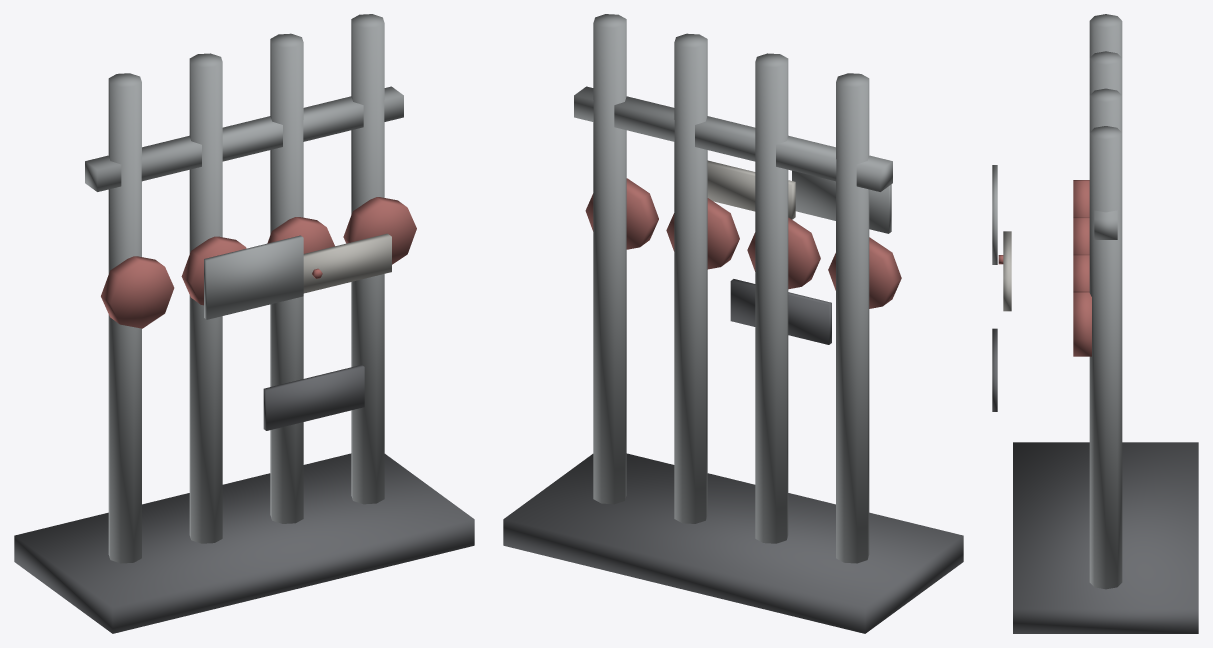
File: radiator_manifold__weathered.glb
The picture shows the model from 3 angles, left to right: view 1: azimuth 30°, elevation 25°; view 2: azimuth 150°, elevation 25°; view 3: azimuth 270°, elevation 25°; orthographic projection. The views are drawn at different scales.
Parts seen in each view (by area): view 1: world; view 2: world; view 3: world.
Part boxes in pixels (x1,y1,x2,y2): world: [14, 14, 474, 633]; world: [503, 14, 963, 633]; world: [992, 14, 1198, 633].
Size of the model in its own units: 0.85 by 1.13 by 0.445.
